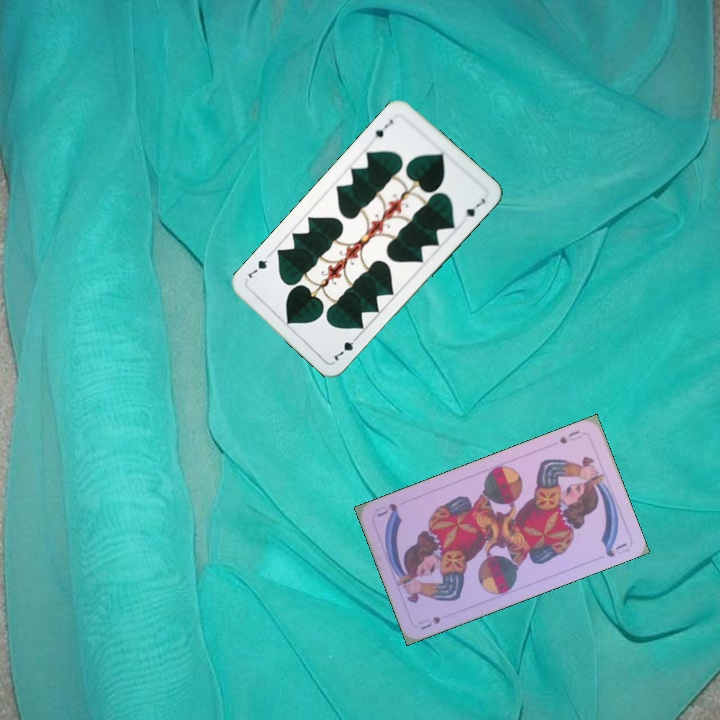G7: (330, 331, 361, 364), (371, 115, 396, 140)
SU: (414, 612, 443, 632), (555, 426, 584, 446)
